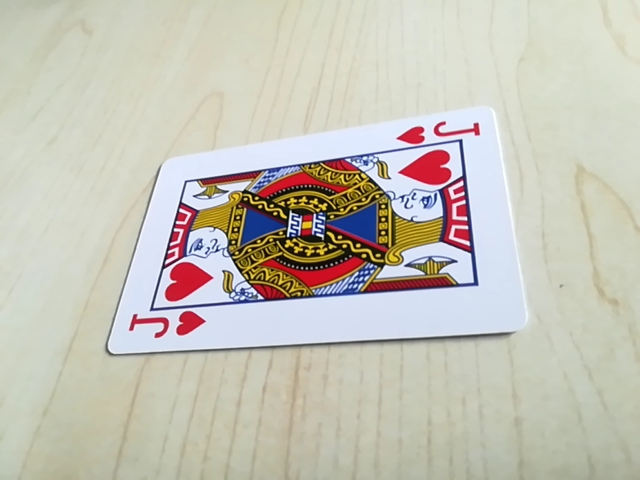hx j: (124, 307, 209, 348), (396, 117, 485, 149)
